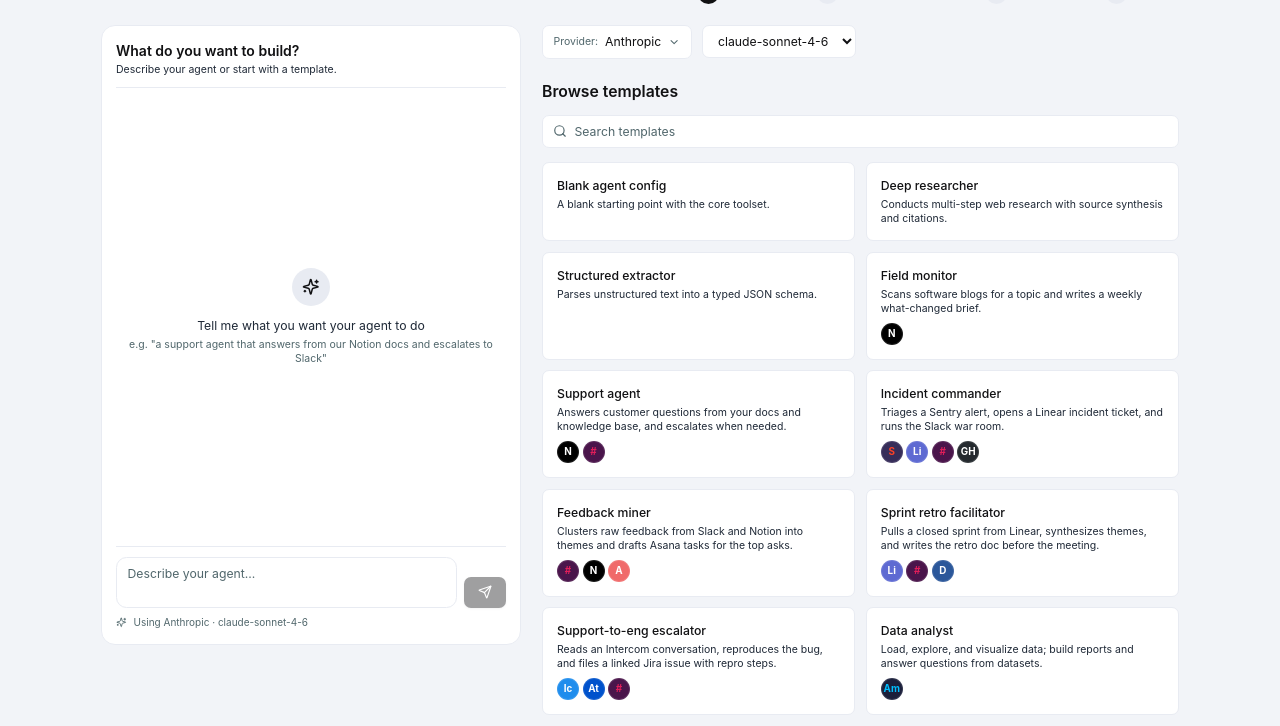
Test case: QuickstartPage › filters templates on search
(page scrolled)
Type "research" into the field with placeholder "Search templates" at (860,131), box top-left (542, 114), bottom-right (1179, 148)
(page scrolled)
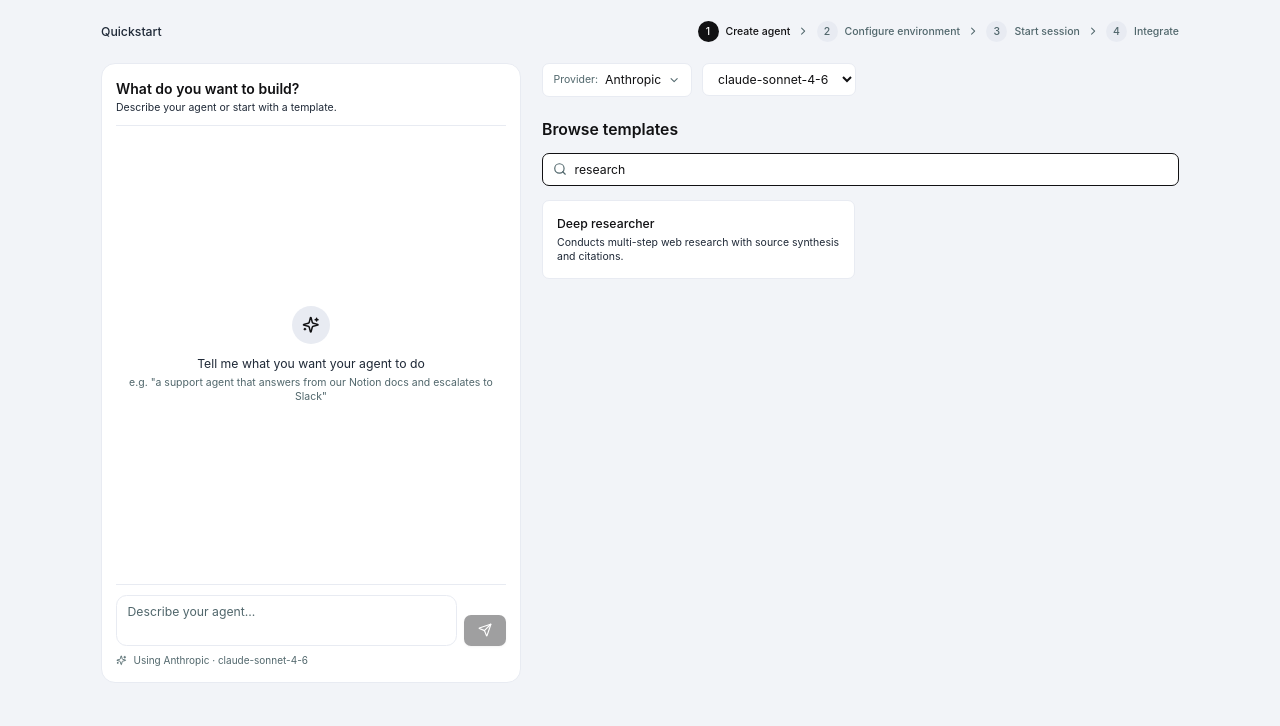
Expected: the text "Deep researcher" is shown, top-left (557, 215), bottom-right (654, 232)
Now the button "Blank agent config" is gone
